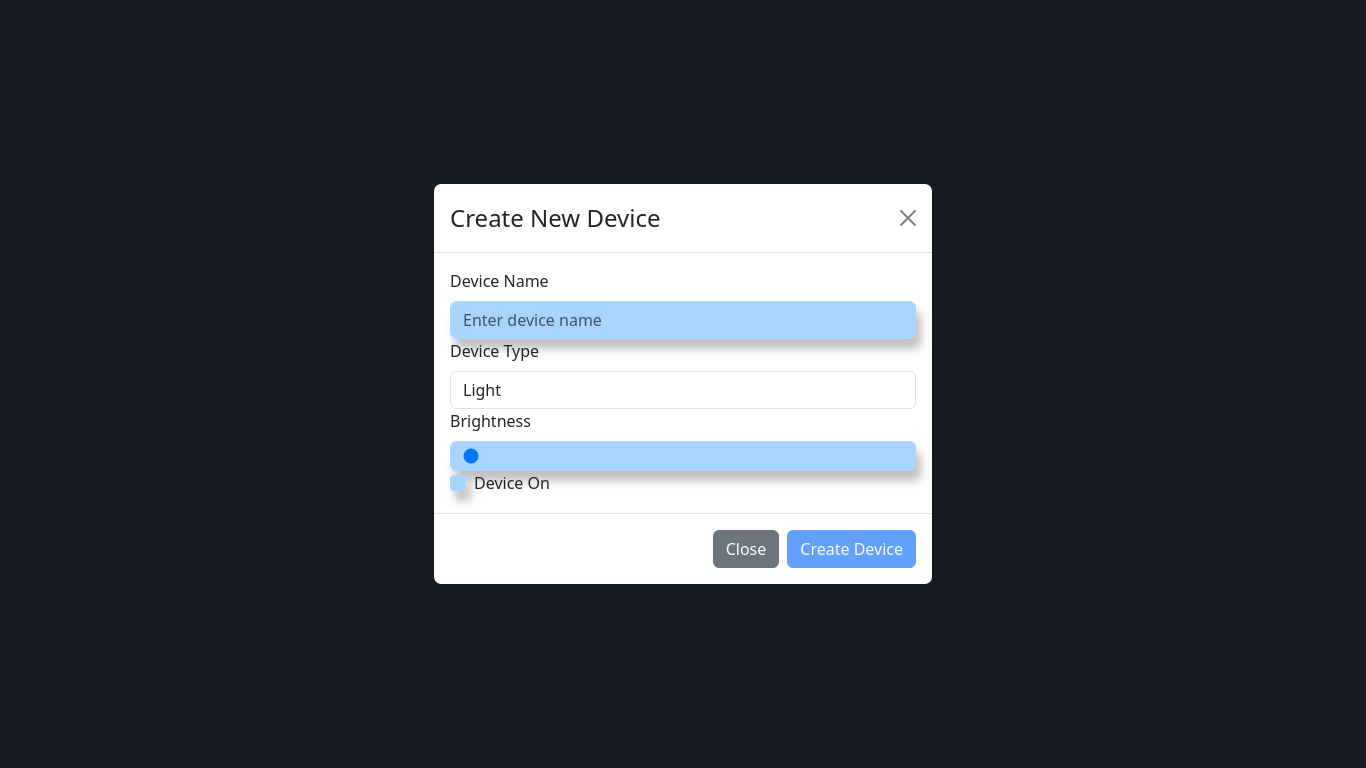
Scenario: CreateDeviceModal Component › displays temperature input when THERMOSTAT type is selected
The width and height of the screenshot is (1366, 768).
Select "Thermostat" in the dropdown labelled "Device Type" at (683, 390), box [450,371,916,409]
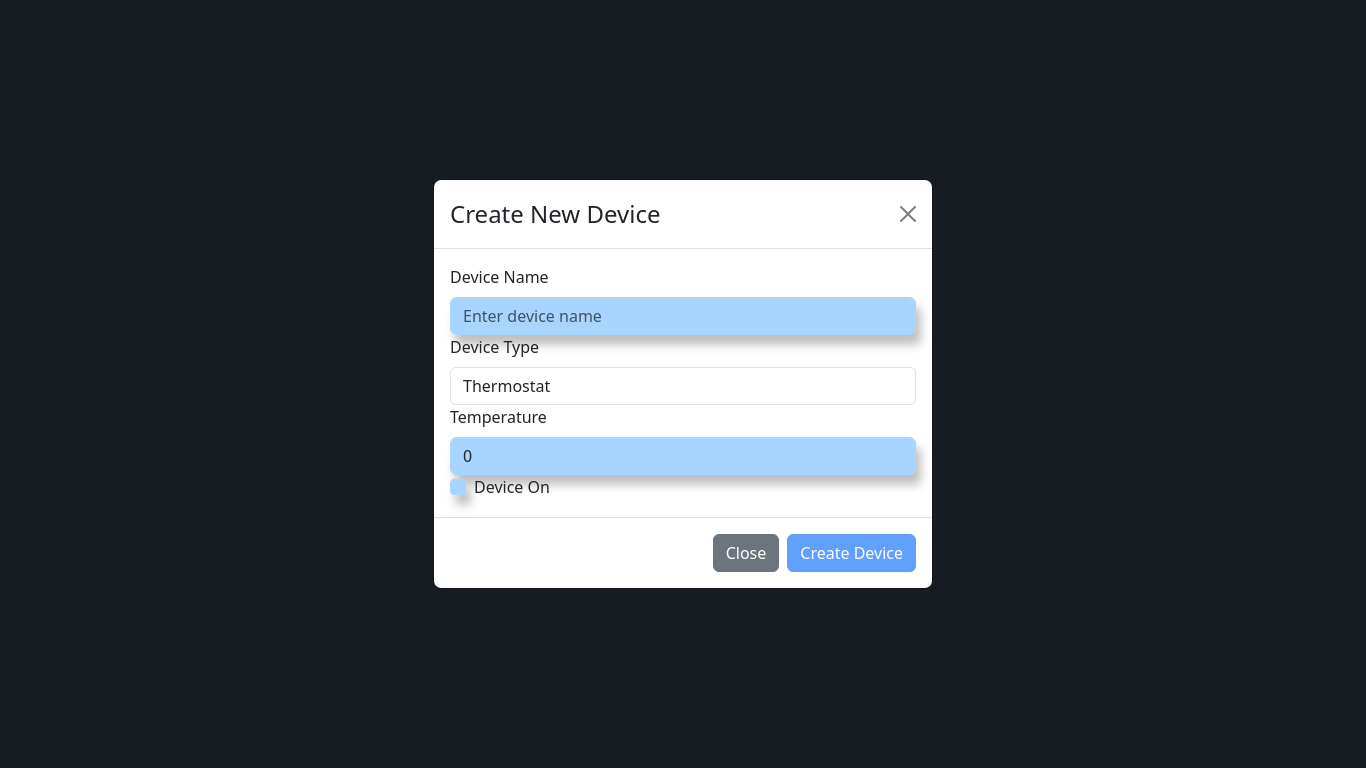
Check: the number field labelled "Temperature" is shown, box [450,437,916,475]
